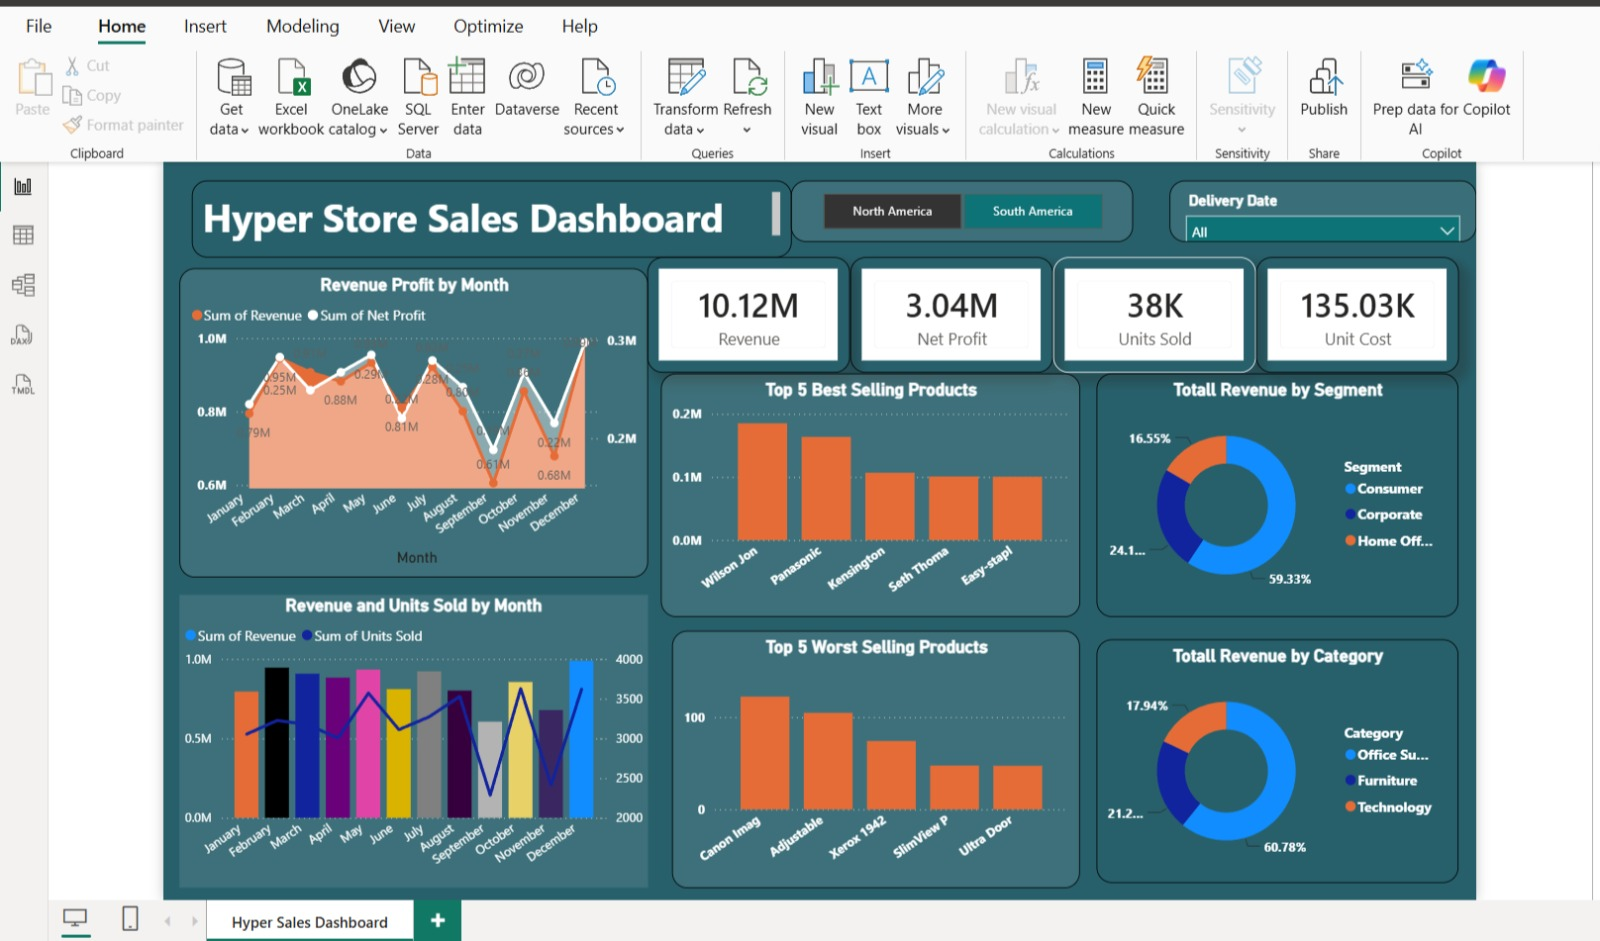

The page's visual inventory and layout, read from the dashboard file:
{"tool":"powerbi","page":{"name":"Hyper Sales Dashboard","canvas":[1280,720],"ordinal":0},"visuals":[{"type":"textbox","box":[27.4,17.8,584.6,75.5],"z":0},{"type":"cardVisual","fields":{"Data":["Sum(HyperStoreDataSet.Revenue)"]},"box":[472,93.3,197.6,112.5],"z":1000},{"type":"cardVisual","fields":{"Data":["Sum(HyperStoreDataSet.Net Profit)"]},"box":[669.6,93.3,197.6,112.5],"z":2000},{"type":"cardVisual","fields":{"Data":["Sum(HyperStoreDataSet.Units Sold)"]},"box":[867.2,93.3,197.6,112.5],"z":3000},{"type":"cardVisual","fields":{"Data":["Sum(HyperStoreDataSet.Unit Cost)"]},"box":[1064.8,93.3,197.6,112.5],"z":4000},{"type":"lineChart","title":"Revenue  Profit by Month","fields":{"Category":["HyperStoreDataSet.Delivery Date.Variation.Date Hierarchy.Month"],"Y":["Sum(HyperStoreDataSet.Revenue)"],"Y2":["Sum(HyperStoreDataSet.Net Profit)"]},"box":[15.1,104.3,456.9,301.9],"z":5000},{"type":"lineStackedColumnComboChart","title":"Revenue and Units Sold by Month","fields":{"Category":["HyperStoreDataSet.Delivery Date.Variation.Date Hierarchy.Month"],"Y":["Sum(HyperStoreDataSet.Revenue)"],"Y2":["Sum(HyperStoreDataSet.Units Sold)"]},"box":[15.1,422.6,456.9,285.4],"z":6000},{"type":"columnChart","title":"Top 5 Best Selling Products","fields":{"Category":["HyperStoreDataSet.Product Name"],"Y":["Sum(HyperStoreDataSet.Revenue)"]},"box":[484.4,205.8,408.9,237.4],"z":7000},{"type":"columnChart","title":"Top 5 Worst Selling Products","fields":{"Category":["HyperStoreDataSet.Product Name"],"Y":["Sum(HyperStoreDataSet.Revenue)"]},"box":[495.4,456.9,397.9,251.1],"z":8000},{"type":"donutChart","title":"Totall Revenue by Segment","fields":{"Y":["Sum(HyperStoreDataSet.Revenue)"],"Category":["HyperStoreDataSet.Segment"]},"box":[909.8,205.8,352.7,237.4],"z":9000},{"type":"donutChart","title":"Totall Revenue by Category","fields":{"Y":["Sum(HyperStoreDataSet.Revenue)"],"Category":["HyperStoreDataSet.Category"]},"box":[909.8,465.2,352.7,237.4],"z":10000},{"type":"slicer","fields":{"Values":["HyperStoreDataSet.Delivery Date"]},"box":[981.1,17.8,299.1,60.4],"z":11000},{"type":"slicer","fields":{"Values":["HyperStoreDataSet.Country (groups)"]},"box":[612,17.8,333.4,60.4],"z":12000}]}

Visuals, with their boxes on the page's 1280x720 design canvas (x1, y1, x2, y2). These are canvas units, not pixel positions in the 1600x941 screenshot, which may show the page scaled, cropped or inside an application window:
textbox: [x1=27, y1=18, x2=612, y2=93]
cardVisual - Sum(HyperStoreDataSet.Revenue): [x1=472, y1=93, x2=670, y2=206]
cardVisual - Sum(HyperStoreDataSet.Net Profit): [x1=670, y1=93, x2=867, y2=206]
cardVisual - Sum(HyperStoreDataSet.Units Sold): [x1=867, y1=93, x2=1065, y2=206]
cardVisual - Sum(HyperStoreDataSet.Unit Cost): [x1=1065, y1=93, x2=1262, y2=206]
"Revenue  Profit by Month" lineChart: [x1=15, y1=104, x2=472, y2=406]
"Revenue and Units Sold by Month" lineStackedColumnComboChart: [x1=15, y1=423, x2=472, y2=708]
"Top 5 Best Selling Products" columnChart: [x1=484, y1=206, x2=893, y2=443]
"Top 5 Worst Selling Products" columnChart: [x1=495, y1=457, x2=893, y2=708]
"Totall Revenue by Segment" donutChart: [x1=910, y1=206, x2=1262, y2=443]
"Totall Revenue by Category" donutChart: [x1=910, y1=465, x2=1262, y2=703]
slicer - HyperStoreDataSet.Delivery Date: [x1=981, y1=18, x2=1280, y2=78]
slicer - HyperStoreDataSet.Country (groups): [x1=612, y1=18, x2=945, y2=78]
